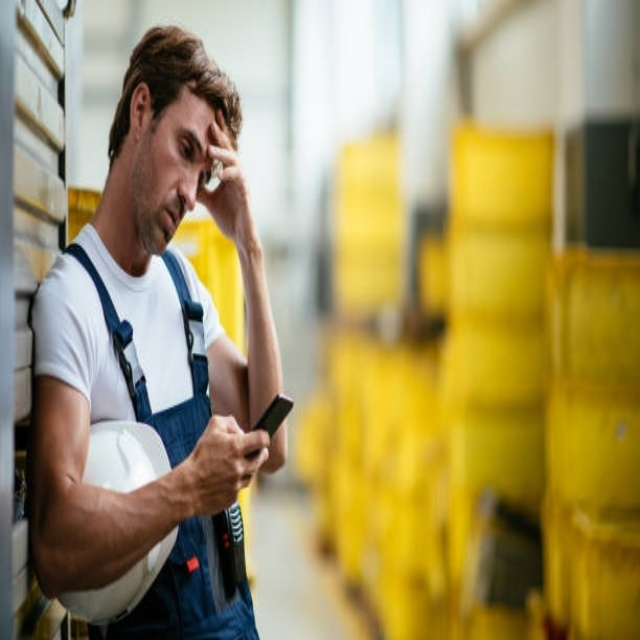Sin_gafas: (168, 127, 210, 186)
Sin_guantes: (187, 413, 275, 513), (207, 104, 264, 251)
Sin_mascara: (156, 186, 187, 255)
